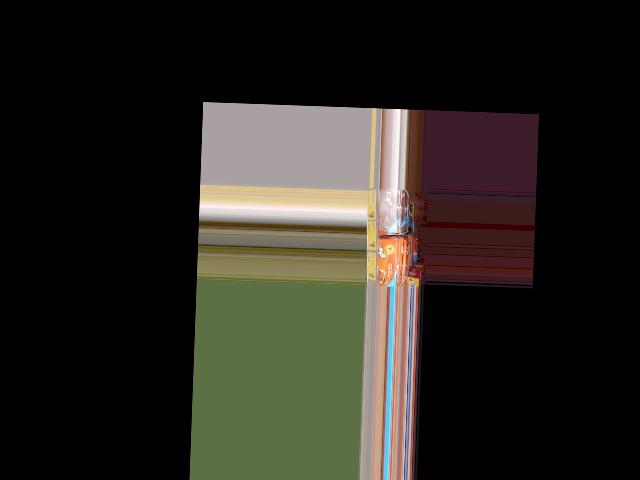chocolate: (373, 187, 401, 231)
